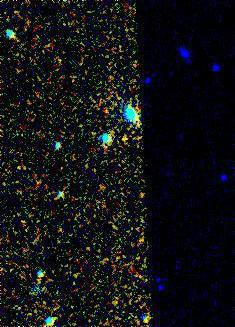star: (113, 127, 143, 157)
